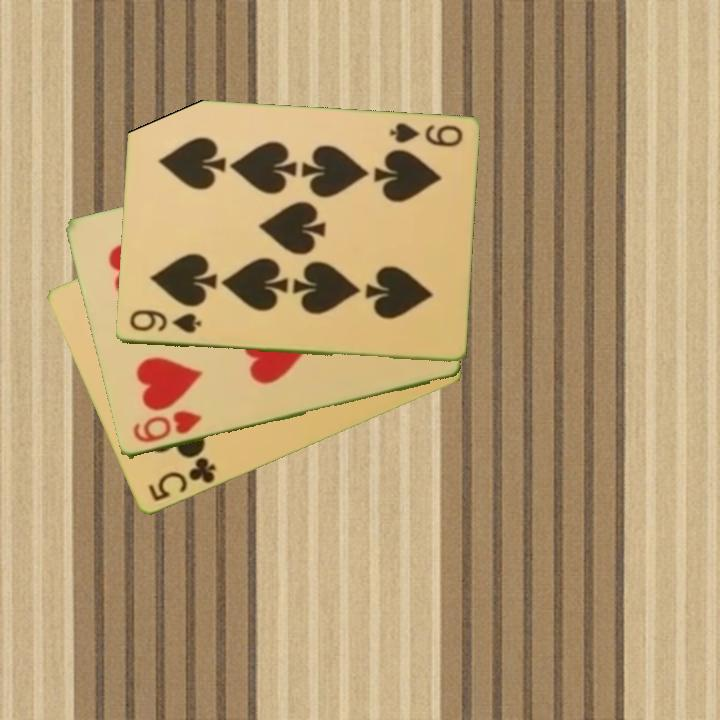5c: (144, 454, 219, 506)
6h: (129, 407, 205, 446)
9s: (385, 119, 465, 151), (125, 306, 204, 336)
